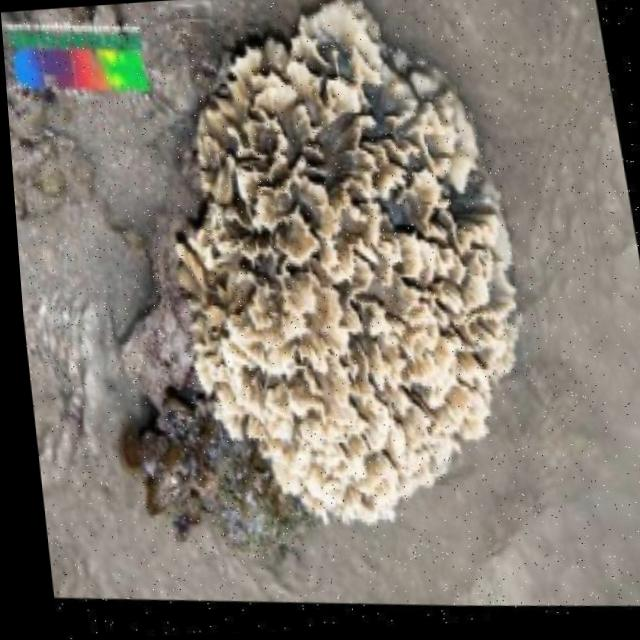Bleached Coral: (143, 0, 558, 569)
